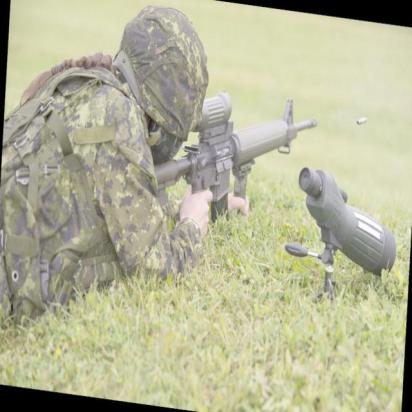Gun: (146, 82, 320, 230)
